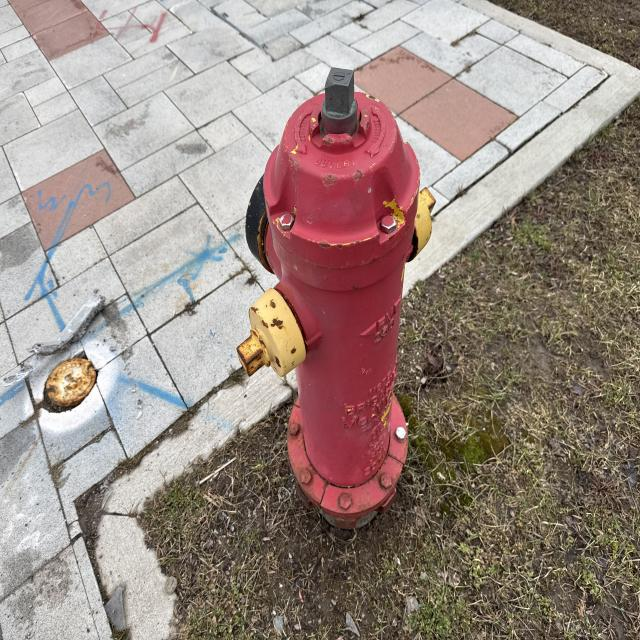Fire hydrant: (235, 65, 437, 531)
